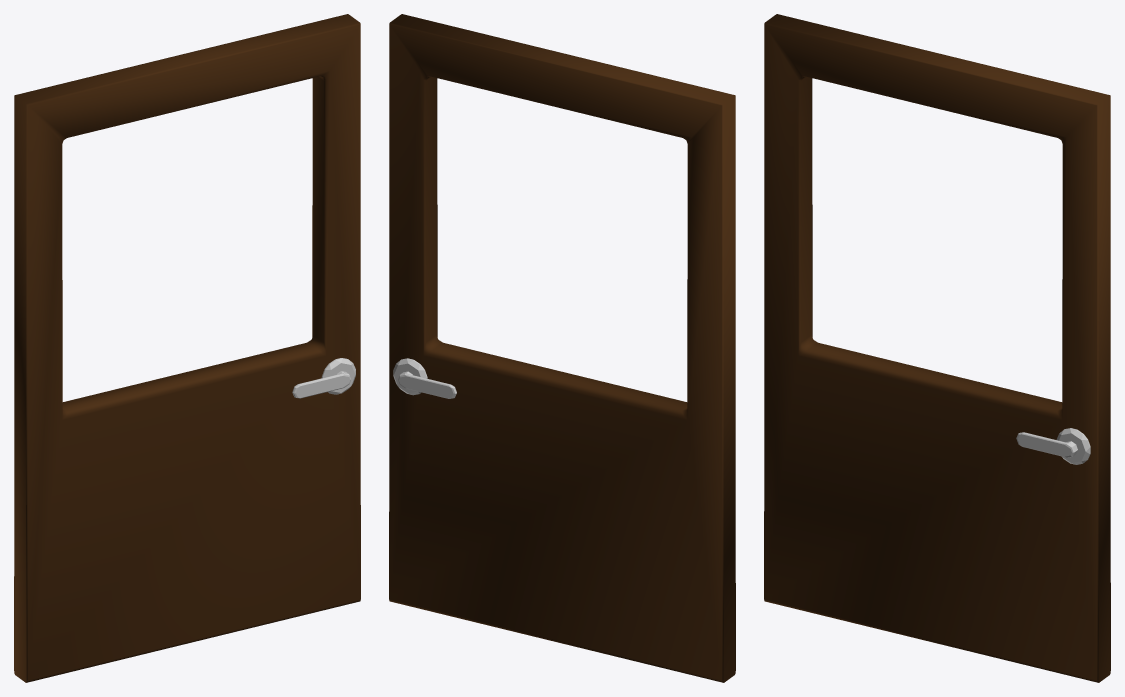
File: door2.obj
The picture shows the model from 3 angles, left to right: view 1: azimuth 30°, elevation 25°; view 2: azimuth 150°, elevation 25°; view 3: azimuth 330°, elevation 25°; orthographic projection.
Visible parts, largest first — view 1: door2_Material.007, door2_Material.010; view 2: door2_Material.007, door2_Material.010; view 3: door2_Material.007, door2_Material.010.
Boxes of the visible parts, left/top/right/bottom form: door2_Material.007: left=14, top=14, right=360, bottom=682; door2_Material.010: left=292, top=358, right=355, bottom=398; door2_Material.007: left=389, top=14, right=735, bottom=682; door2_Material.010: left=393, top=358, right=456, bottom=398; door2_Material.007: left=764, top=14, right=1110, bottom=682; door2_Material.010: left=1016, top=428, right=1090, bottom=464.
Size of the model in its own units: 1.29 by 2.14 by 0.194.
